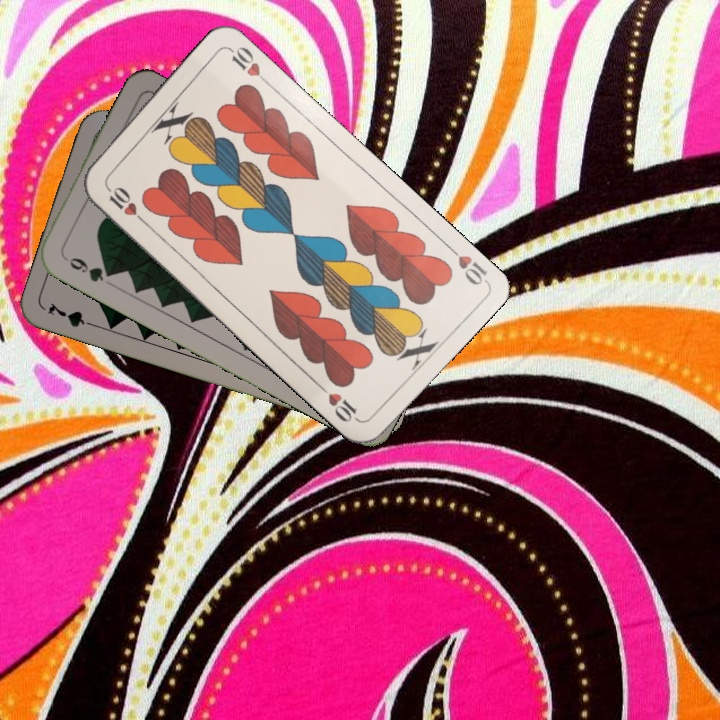G7: (43, 298, 101, 331)
G9: (59, 251, 117, 285)
H10: (442, 240, 490, 288), (101, 180, 149, 226)
